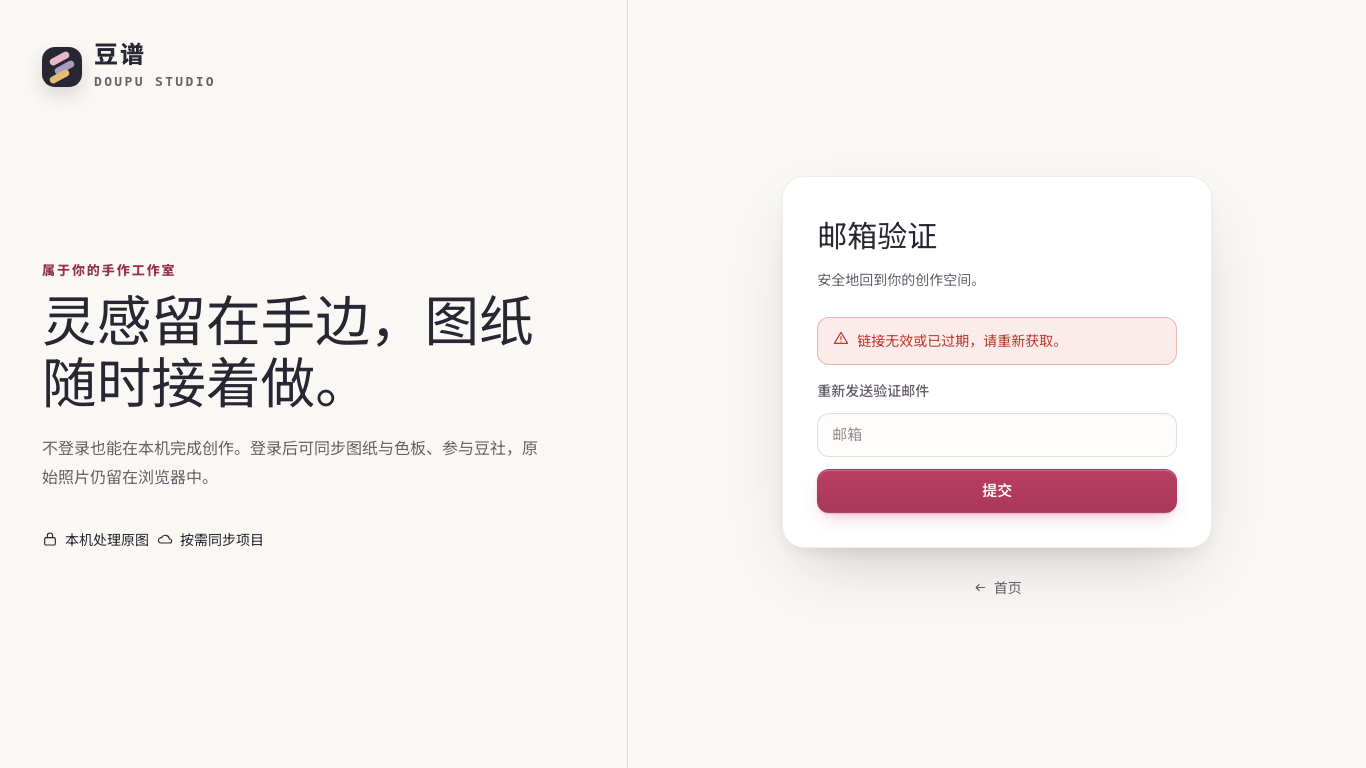
Test: verify-email 页 › 重发后进入 60s 冷却（按钮禁用并显示倒计时）
Expected: the heading "重新发送验证邮件" is shown, 817,382 -> 929,399
Type "a@b.com" into the field labelled "邮箱" at (997, 435), box 817,413 -> 1177,457
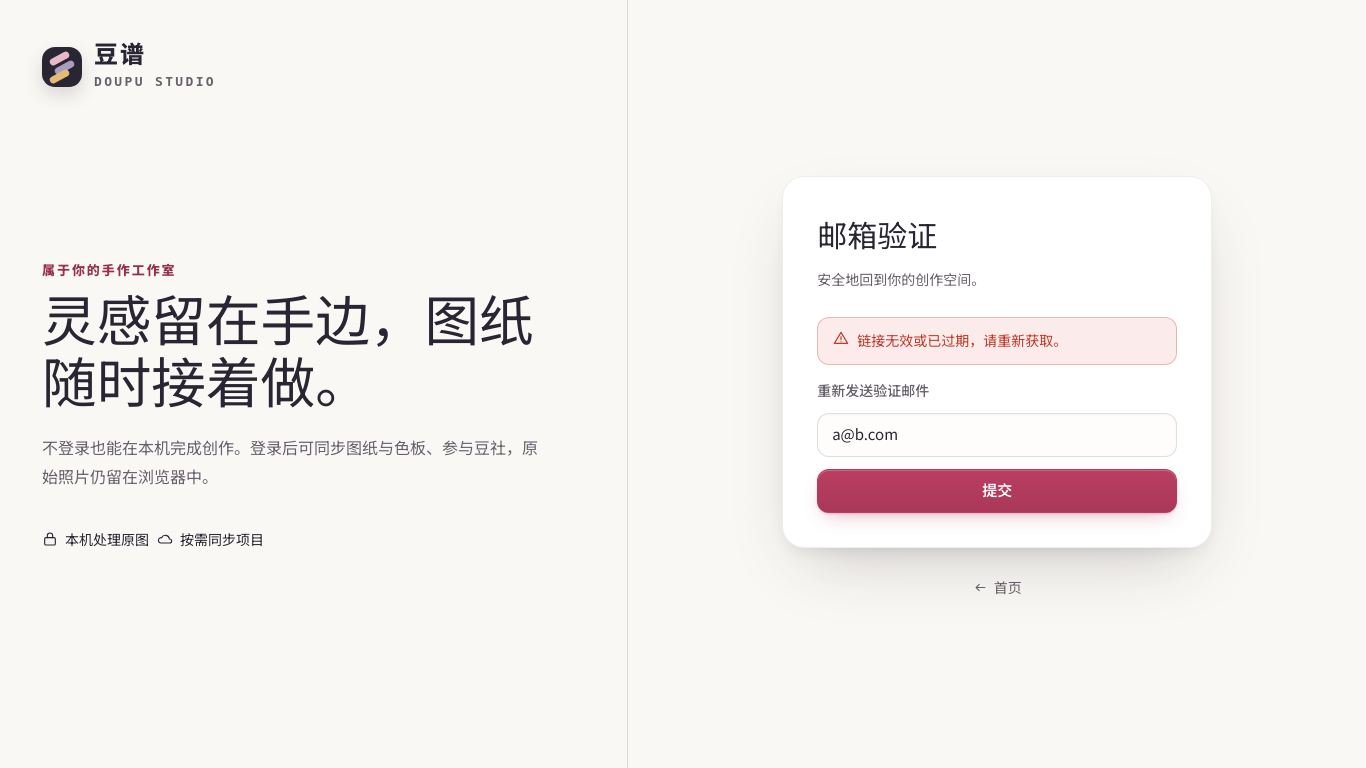
Click the button "提交" at (997, 491), box 817,469 -> 1177,513
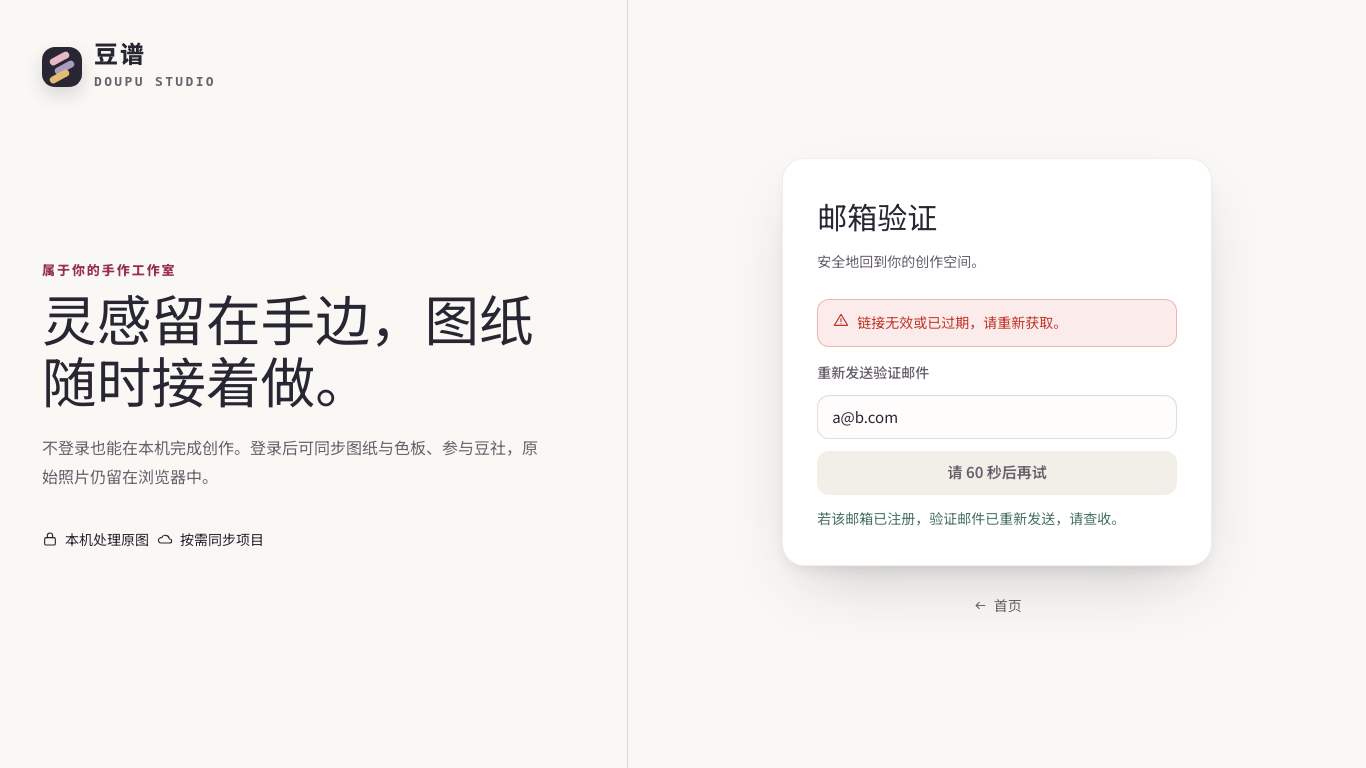
Now the text "若该邮箱已注册，验证邮件已重新发送，请查收。" is shown, box 817,507 -> 1177,531
Now the button "请 60 秒后再试" is disabled, box 817,451 -> 1177,495
